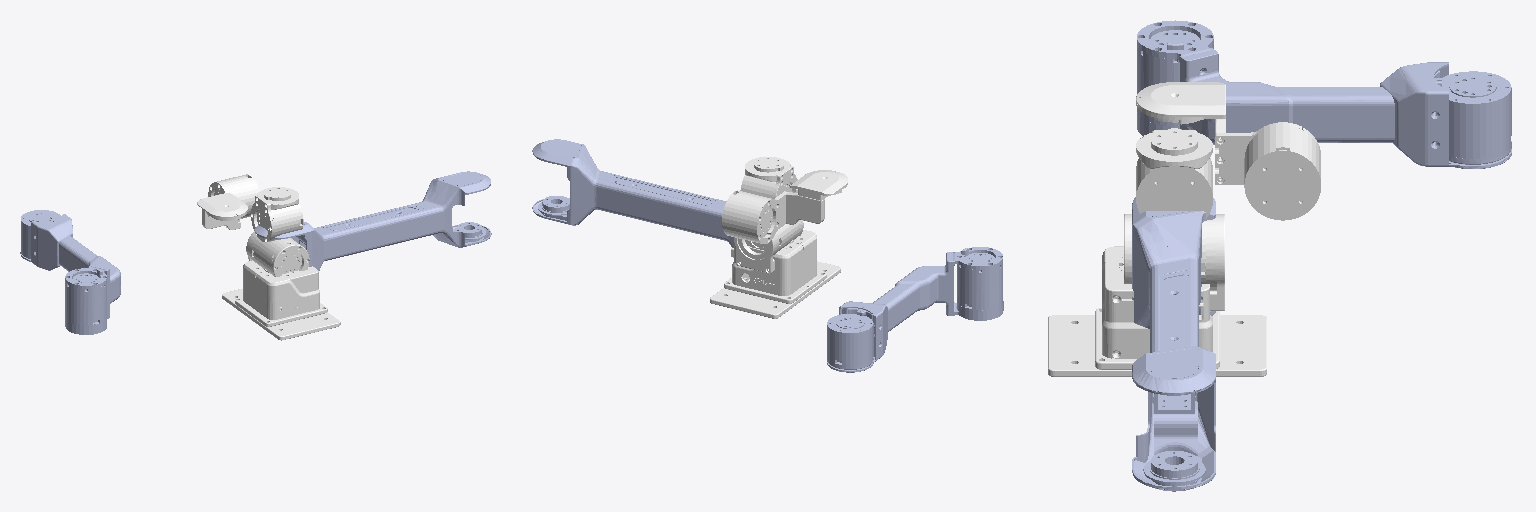
robot.urdf — s1_description:
<?xml version="1.0" encoding="utf-8"?>
<!-- This URDF was automatically created by SolidWorks to URDF Exporter! Originally created by Stephen Brawner (brawner@gmail.com) 
     Commit Version: 1.6.0-4-g7f85cfe  Build Version: 1.6.7995.38578
     For more information, please see http://wiki.ros.org/sw_urdf_exporter -->
<robot
  name="s1_description">
  <link
    name="base_link">
    <inertial>
      <origin
        xyz="-0.00380858444094159 -2.95623718748507E-06 -0.00812774108594989"
        rpy="0 0 0" />
      <mass
        value="0.20806063959613" />
      <inertia
        ixx="0.000111582714512014"
        ixy="-2.09920975933723E-08"
        ixz="-1.21102241506082E-07"
        iyy="0.000111825104100504"
        iyz="7.58291968234202E-09"
        izz="0.000141736244263584" />
    </inertial>
    <visual>
      <origin
        xyz="0 0 0"
        rpy="0 0 0" />
      <geometry>
        <mesh
          filename="package://s1_description/meshes/base_link.STL" />
      </geometry>
      <material
        name="">
        <color
          rgba="1 1 1 1" />
      </material>
    </visual>
    <collision>
      <origin
        xyz="0 0 0"
        rpy="0 0 0" />
      <geometry>
        <mesh
          filename="package://s1_description/meshes/base_link.STL" />
      </geometry>
    </collision>
  </link>
  <link
    name="1_Link">
    <inertial>
      <origin
        xyz="-7.80625564189563E-18 -5.00000000002408E-06 0.0590653989286232"
        rpy="0 0 0" />
      <mass
        value="0.240435362198768" />
      <inertia
        ixx="0.00018630832355269"
        ixy="1.64953324173944E-20"
        ixz="-3.36777610311687E-21"
        iyy="0.000128091509815163"
        iyz="1.45060421196015E-21"
        izz="0.000164031471753809" />
    </inertial>
    <visual>
      <origin
        xyz="0 0 0"
        rpy="0 0 0" />
      <geometry>
        <mesh
          filename="package://s1_description/meshes/1_Link.STL" />
      </geometry>
      <material
        name="">
        <color
          rgba="1 1 1 1" />
      </material>
    </visual>
    <collision>
      <origin
        xyz="0 0 0"
        rpy="0 0 0" />
      <geometry>
        <mesh
          filename="package://s1_description/meshes/1_Link.STL" />
      </geometry>
    </collision>
  </link>
  <joint
    name="1joint"
    type="revolute">
    <origin
      xyz="0 0 0"
      rpy="0 0 0" />
    <parent
      link="base_link" />
    <child
      link="1_Link" />
    <axis
      xyz="0 0 1" />
    <limit
      lower="-2.967"
      upper="2.967"
      effort="9"
      velocity="3" />
  </joint>
  <link
    name="2_Link">
    <inertial>
      <origin
        xyz="-0.251879222304569 0.000517956528807904 -7.29157146039383E-05"
        rpy="0 0 0" />
      <mass
        value="0.278959835711776" />
      <inertia
        ixx="0.000163800465912938"
        ixy="2.62737202022501E-07"
        ixz="1.39606807736436E-05"
        iyy="0.000968577582996889"
        iyz="7.55245046340043E-08"
        izz="0.00100988914340768" />
    </inertial>
    <visual>
      <origin
        xyz="0 0 0"
        rpy="0 0 0" />
      <geometry>
        <mesh
          filename="package://s1_description/meshes/2_Link.STL" />
      </geometry>
      <material
        name="">
        <color
          rgba="0.792156862745098 0.819607843137255 0.933333333333333 1" />
      </material>
    </visual>
    <collision>
      <origin
        xyz="0 0 0"
        rpy="0 0 0" />
      <geometry>
        <mesh
          filename="package://s1_description/meshes/2_Link.STL" />
      </geometry>
    </collision>
  </link>
  <joint
    name="2joint"
    type="revolute">
    <origin
      xyz="0 0 0.06525"
      rpy="0 0 0" />
    <parent
      link="1_Link" />
    <child
      link="2_Link" />
    <axis
      xyz="0 1 0" />
    <limit
      lower="0"
      upper="3.14"
      effort="9"
      velocity="3" />
  </joint>
  <link
    name="3_Link">
    <inertial>
      <origin
        xyz="0.19037840176035 -0.00362158780107993 0.0563752101995602"
        rpy="0 0 0" />
      <mass
        value="0.196496171403485" />
      <inertia
        ixx="7.62290489044243E-05"
        ixy="1.27450659123862E-05"
        ixz="-1.40318828274595E-05"
        iyy="0.000364814635826903"
        iyz="3.20235247907783E-07"
        izz="0.000356529119624131" />
    </inertial>
    <visual>
      <origin
        xyz="0 0 0"
        rpy="0 0 0" />
      <geometry>
        <mesh
          filename="package://s1_description/meshes/3_Link.STL" />
      </geometry>
      <material
        name="">
        <color
          rgba="0.796078431372549 0.823529411764706 0.937254901960784 1" />
      </material>
    </visual>
    <collision>
      <origin
        xyz="0 0 0"
        rpy="0 0 0" />
      <geometry>
        <mesh
          filename="package://s1_description/meshes/3_Link.STL" />
      </geometry>
    </collision>
  </link>
  <joint
    name="3joint"
    type="revolute">
    <origin
      xyz="-0.3 0.000494999999999956 0"
      rpy="0 0 0" />
    <parent
      link="2_Link" />
    <child
      link="3_Link" />
    <axis
      xyz="0 -1 0" />
    <limit
      lower="0"
      upper="3.14"
      effort="9"
      velocity="3" />
  </joint>
  <link
    name="4_Link">
    <inertial>
      <origin
        xyz="0.0683945378314372 0.00252083182130338 0.0485251695946249"
        rpy="0 0 0" />
      <mass
        value="0.160912102201024" />
      <inertia
        ixx="0.000134927190897753"
        ixy="2.36812899894328E-05"
        ixz="-7.64926182833173E-05"
        iyy="0.000219616653698238"
        iyz="1.95242373799905E-05"
        izz="0.000157365120045885" />
    </inertial>
    <visual>
      <origin
        xyz="0 0 0"
        rpy="0 0 0" />
      <geometry>
        <mesh
          filename="package://s1_description/meshes/4_Link.STL" />
      </geometry>
      <material
        name="">
        <color
          rgba="1 1 1 1" />
      </material>
    </visual>
    <collision>
      <origin
        xyz="0 0 0"
        rpy="0 0 0" />
      <geometry>
        <mesh
          filename="package://s1_description/meshes/4_Link.STL" />
      </geometry>
    </collision>
  </link>
  <joint
    name="4joint"
    type="revolute">
    <origin
      xyz="0.22 -0.000494999999999959 0.057"
      rpy="0 0 0" />
    <parent
      link="3_Link" />
    <child
      link="4_Link" />
    <axis
      xyz="0 1 0" />
    <limit
      lower="-1.57"
      upper="1.518"
      effort="3"
      velocity="3" />
  </joint>
  <link
    name="5_Link">
    <inertial>
      <origin
        xyz="0.000956923597758259 -9.47220826080786E-11 -0.0552062581443398"
        rpy="0 0 0" />
      <mass
        value="0.148471219823558" />
      <inertia
        ixx="7.22679916508393E-05"
        ixy="1.54971779141034E-11"
        ixz="9.23231896036375E-07"
        iyy="7.08257113400729E-05"
        iyz="-9.66138853764062E-13"
        izz="6.22190701090223E-05" />
    </inertial>
    <visual>
      <origin
        xyz="0 0 0"
        rpy="0 0 0" />
      <geometry>
        <mesh
          filename="package://s1_description/meshes/5_Link.STL" />
      </geometry>
      <material
        name="">
        <color
          rgba="1 1 1 1" />
      </material>
    </visual>
    <collision>
      <origin
        xyz="0 0 0"
        rpy="0 0 0" />
      <geometry>
        <mesh
          filename="package://s1_description/meshes/5_Link.STL" />
      </geometry>
    </collision>
  </link>
  <joint
    name="5joint"
    type="revolute">
    <origin
      xyz="0.0807873370477526 0 0.0591736792802548"
      rpy="0 0 0" />
    <parent
      link="4_Link" />
    <child
      link="5_Link" />
    <axis
      xyz="0 0 -1" />
    <limit
      lower="-1.57"
      upper="1.57"
      effort="3"
      velocity="3" />
  </joint>
  
  <link 
    name="6_Link">
    <inertial>
      <mass value="0.001" />
      <origin xyz="0.02 0 0" />
      <inertia ixx="0.0000001" ixy="0" ixz="0" iyy="0.0000001" iyz="0" izz="0.0000001" />
    </inertial>
    <visual>
      <origin xyz="0.0 0 0" rpy="0 1.57 0" />
      <geometry>
        <mesh filename="package://s1_description/meshes/flange.STL" />
      </geometry>
      <material name="">
        <color rgba="1 1 1 1" />
      </material>
    </visual>
    <collision>
      <origin xyz="0.0 0 0" rpy="0 1.57 0" />
      <geometry>
        <mesh filename="package://s1_description/meshes/flange.STL" />
      </geometry>
    </collision>
  </link>
  <joint
    name="6joint"
    type="revolute">
    <origin
      xyz="0.0312127 0 -0.059174"
      rpy="0 0 0" />
    <parent
      link="5_Link" />
    <child
      link="6_Link" />
    <axis
      xyz="1 0 0" />
    <limit
      lower="-1.57"
      upper="1.57"
      effort="3"
      velocity="3" />
  </joint>

</robot>

--- Facts derived from the render (not from the file) ---
The picture shows the robot from 3 angles, left to right: view 1: azimuth 30°, elevation 25°; view 2: azimuth 150°, elevation 25°; view 3: azimuth 270°, elevation 25°; orthographic projection.
Robot: s1_description — 7 links, 6 joints (6 revolute); root link base_link; default pose: all joints at 0.
Links seen in each view (by area): view 1: 2_Link, 3_Link, base_link, 4_Link, 5_Link, 1_Link; view 2: 3_Link, 2_Link, base_link, 4_Link, 5_Link, 1_Link; view 3: 3_Link, 2_Link, base_link, 4_Link, 5_Link, 1_Link.
Boxes of the visible links, x1,y1,x2,y2 form: 2_Link: (254, 171, 491, 270); 3_Link: (20, 210, 120, 334); base_link: (222, 260, 340, 340); 4_Link: (197, 174, 259, 229); 5_Link: (251, 187, 303, 242); 1_Link: (246, 231, 309, 276); 3_Link: (827, 247, 1003, 372); 2_Link: (532, 139, 733, 247); base_link: (710, 230, 840, 318); 4_Link: (722, 170, 847, 243); 5_Link: (740, 157, 797, 198); 1_Link: (734, 220, 803, 273); 3_Link: (1137, 20, 1511, 168); 2_Link: (1132, 197, 1215, 491); base_link: (1048, 246, 1266, 376); 4_Link: (1136, 82, 1320, 220); 5_Link: (1136, 128, 1212, 218); 1_Link: (1124, 214, 1224, 310).
Size in the robot's own frame: 0.6582 by 0.3429 by 0.1724 metres.
6 mesh visuals loaded from 7 distinct referenced files (6 binary STL); not drawn: 1 (reference not matched to a file when rendering).
